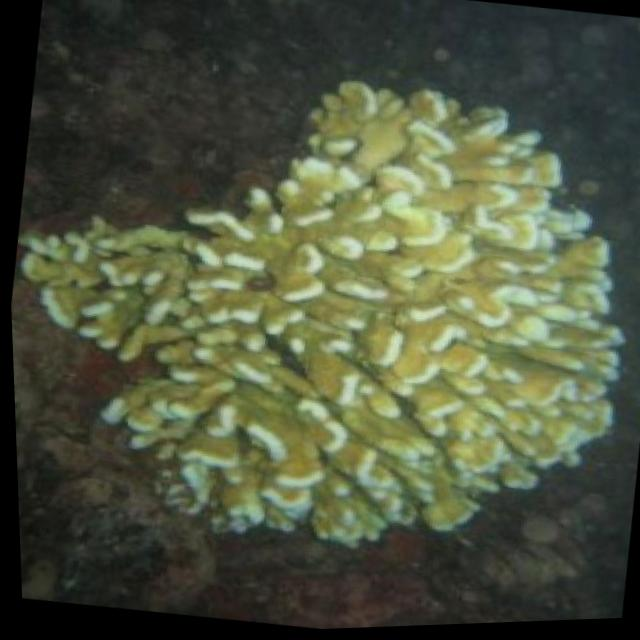Bleached Coral: (1, 14, 640, 605)
